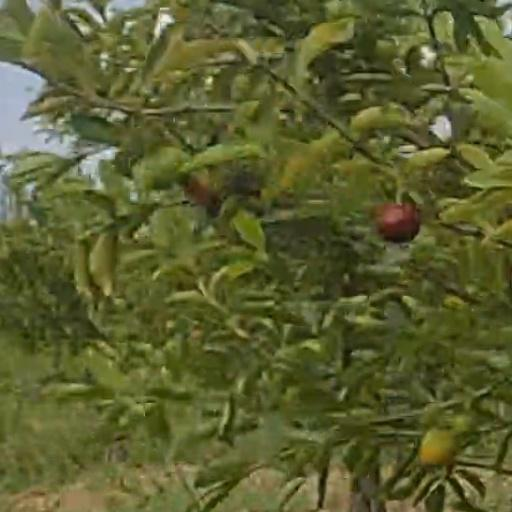acerola: (376, 203, 418, 243), (189, 173, 223, 205), (422, 429, 452, 462)
